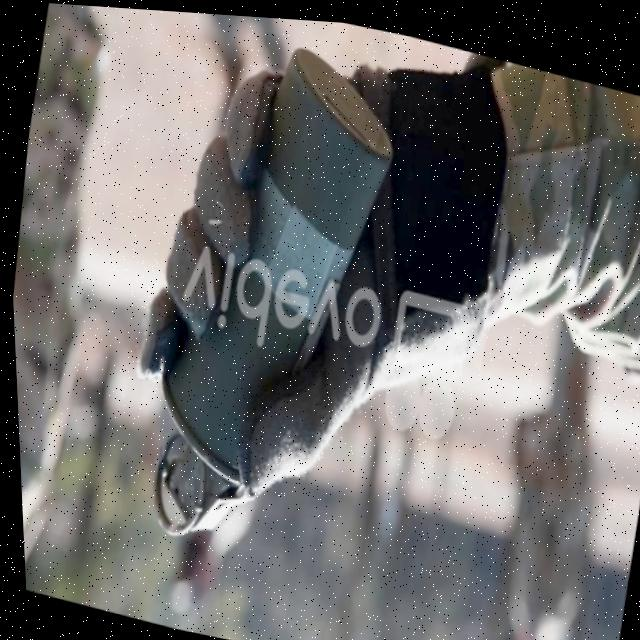grenade: (104, 7, 422, 578)
